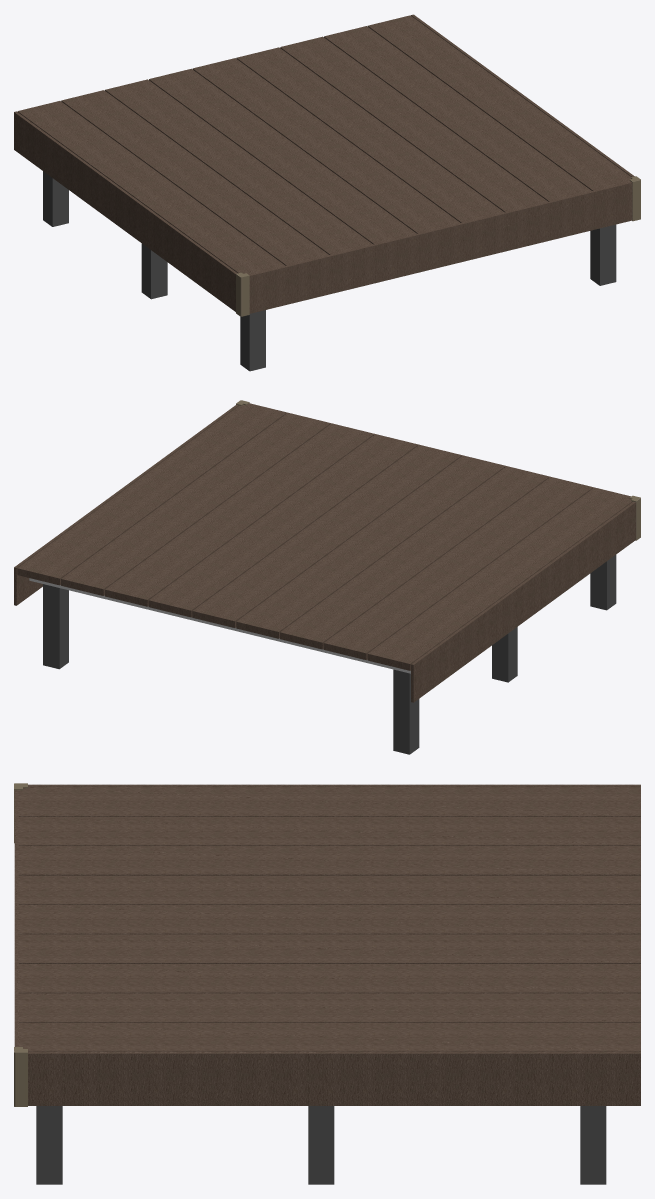
The model's file is ecowood2deck195_1k-6s_warmgrey.fbx.
3 views of the same model, one above another, from view 1: azimuth 30°, elevation 25°; view 2: azimuth 150°, elevation 25°; view 3: azimuth 270°, elevation 25° (orthographic). The views are drawn at different scales.
Visible parts, largest first — view 1: ecowood2deck195_1k-6s_warmgray; view 2: ecowood2deck195_1k-6s_warmgray; view 3: ecowood2deck195_1k-6s_warmgray.
Boxes of the visible parts, box(x1,y1,x2,y2) form: ecowood2deck195_1k-6s_warmgray: box(14, 14, 640, 371); ecowood2deck195_1k-6s_warmgray: box(14, 400, 640, 754); ecowood2deck195_1k-6s_warmgray: box(14, 783, 640, 1184).
Bounding box in the file's own units: 183 × 45.4 × 180.
Materials: 4 (2 with a texture image).
